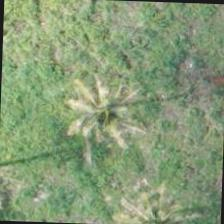Kelapa_Sawit: (58, 68, 150, 161), (98, 174, 192, 223)
